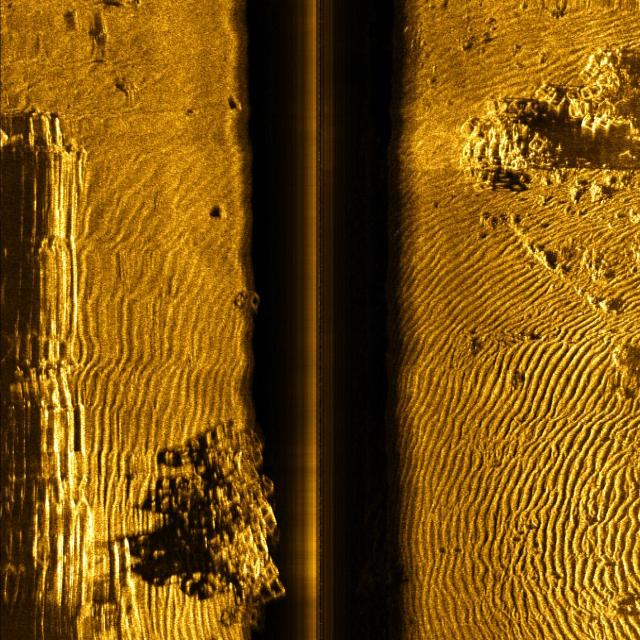artificial reef: (461, 44, 617, 208), (171, 417, 295, 613), (238, 281, 265, 323)
